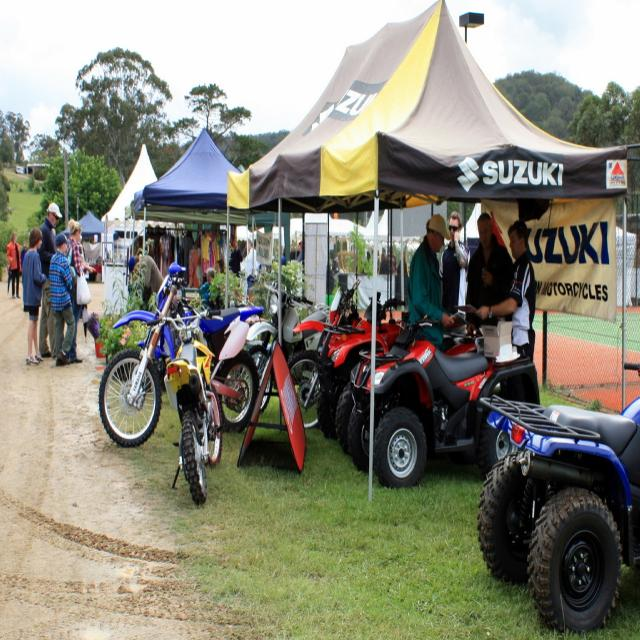Motorbikes: (96, 294, 260, 456), (164, 336, 228, 509)
